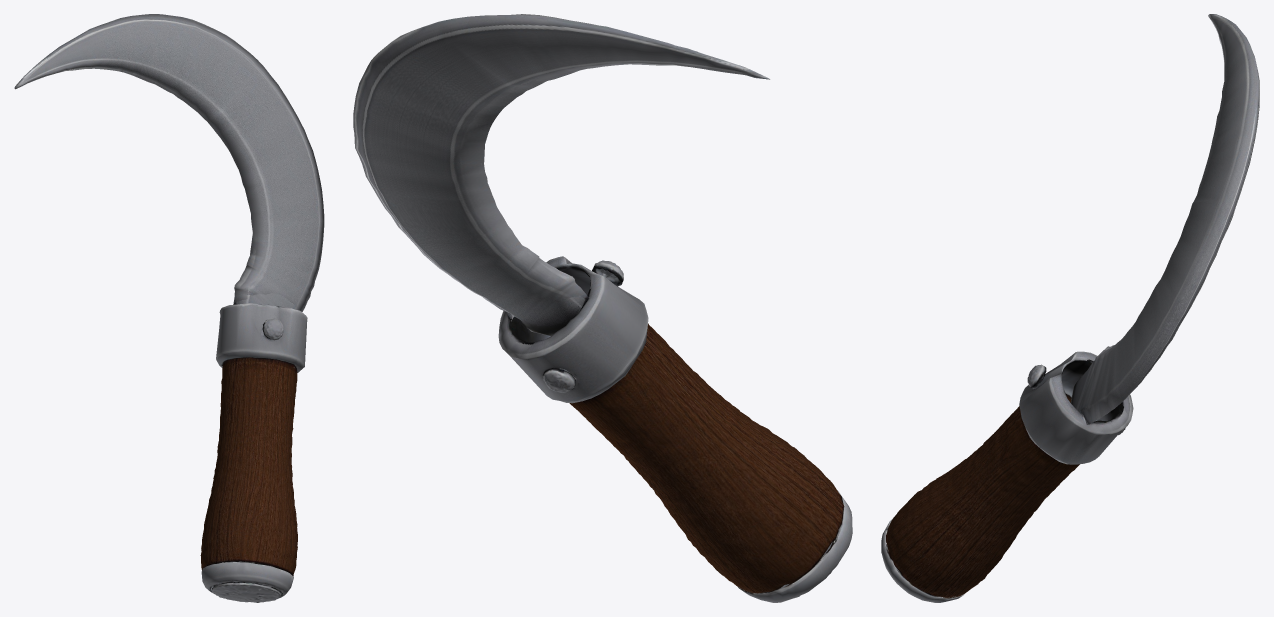
Rendered from decent_hoe.fbx.
The picture shows the model from 3 angles, left to right: view 1: azimuth 30°, elevation 25°; view 2: azimuth 150°, elevation 25°; view 3: azimuth 270°, elevation 25°; orthographic projection. The views are drawn at different scales.
Visible parts, largest first — view 1: tripo_node_1ab85e81; view 2: tripo_node_1ab85e81; view 3: tripo_node_1ab85e81.
Boxes of the visible parts, x1,y1,x2,y2 form: tripo_node_1ab85e81: (14,14,324,602); tripo_node_1ab85e81: (353,14,852,602); tripo_node_1ab85e81: (881,14,1259,602).
Bounding box in the file's own units: 0.623 × 0.998 × 0.627.
1 material, 1 textured.
